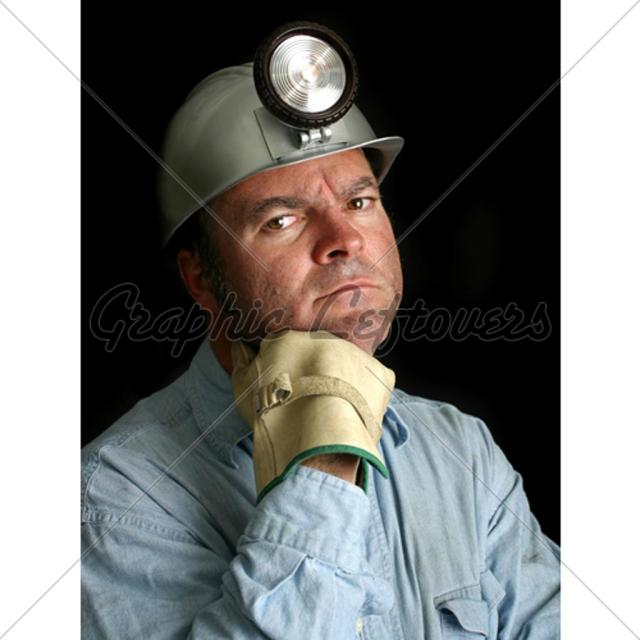nomask: (234, 120, 396, 328)
